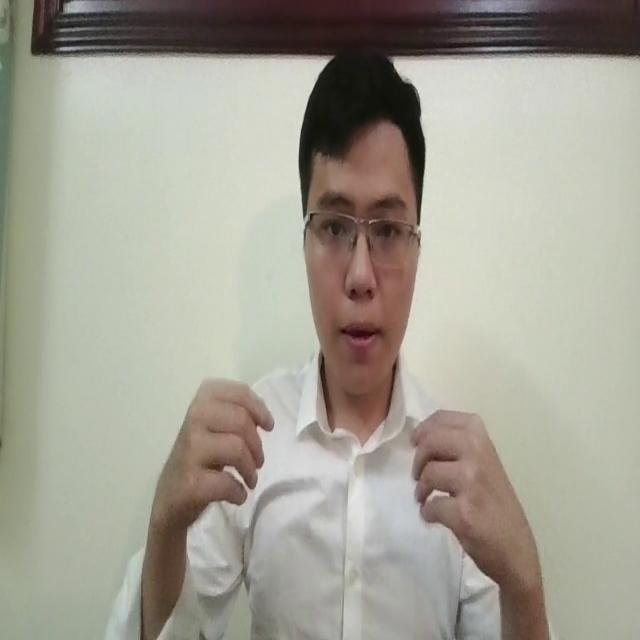student: (118, 42, 550, 640)
